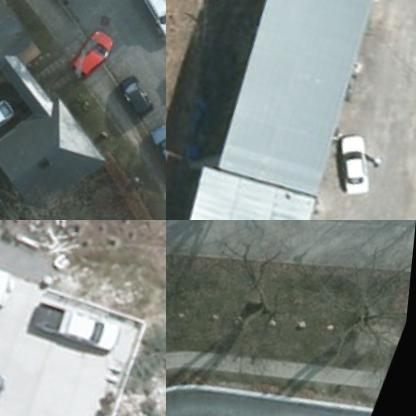car: (324, 118, 390, 196), (70, 16, 118, 76), (112, 63, 161, 110), (135, 106, 165, 180), (0, 326, 20, 399), (0, 82, 21, 150), (132, 0, 165, 33)
pickup: (30, 280, 131, 350)
